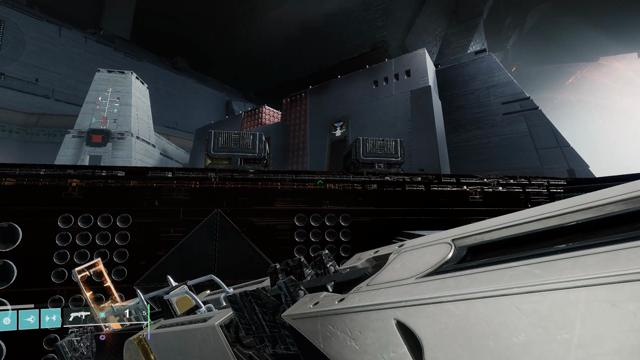drink: (331, 120, 348, 136)
stop: (88, 130, 106, 147)
